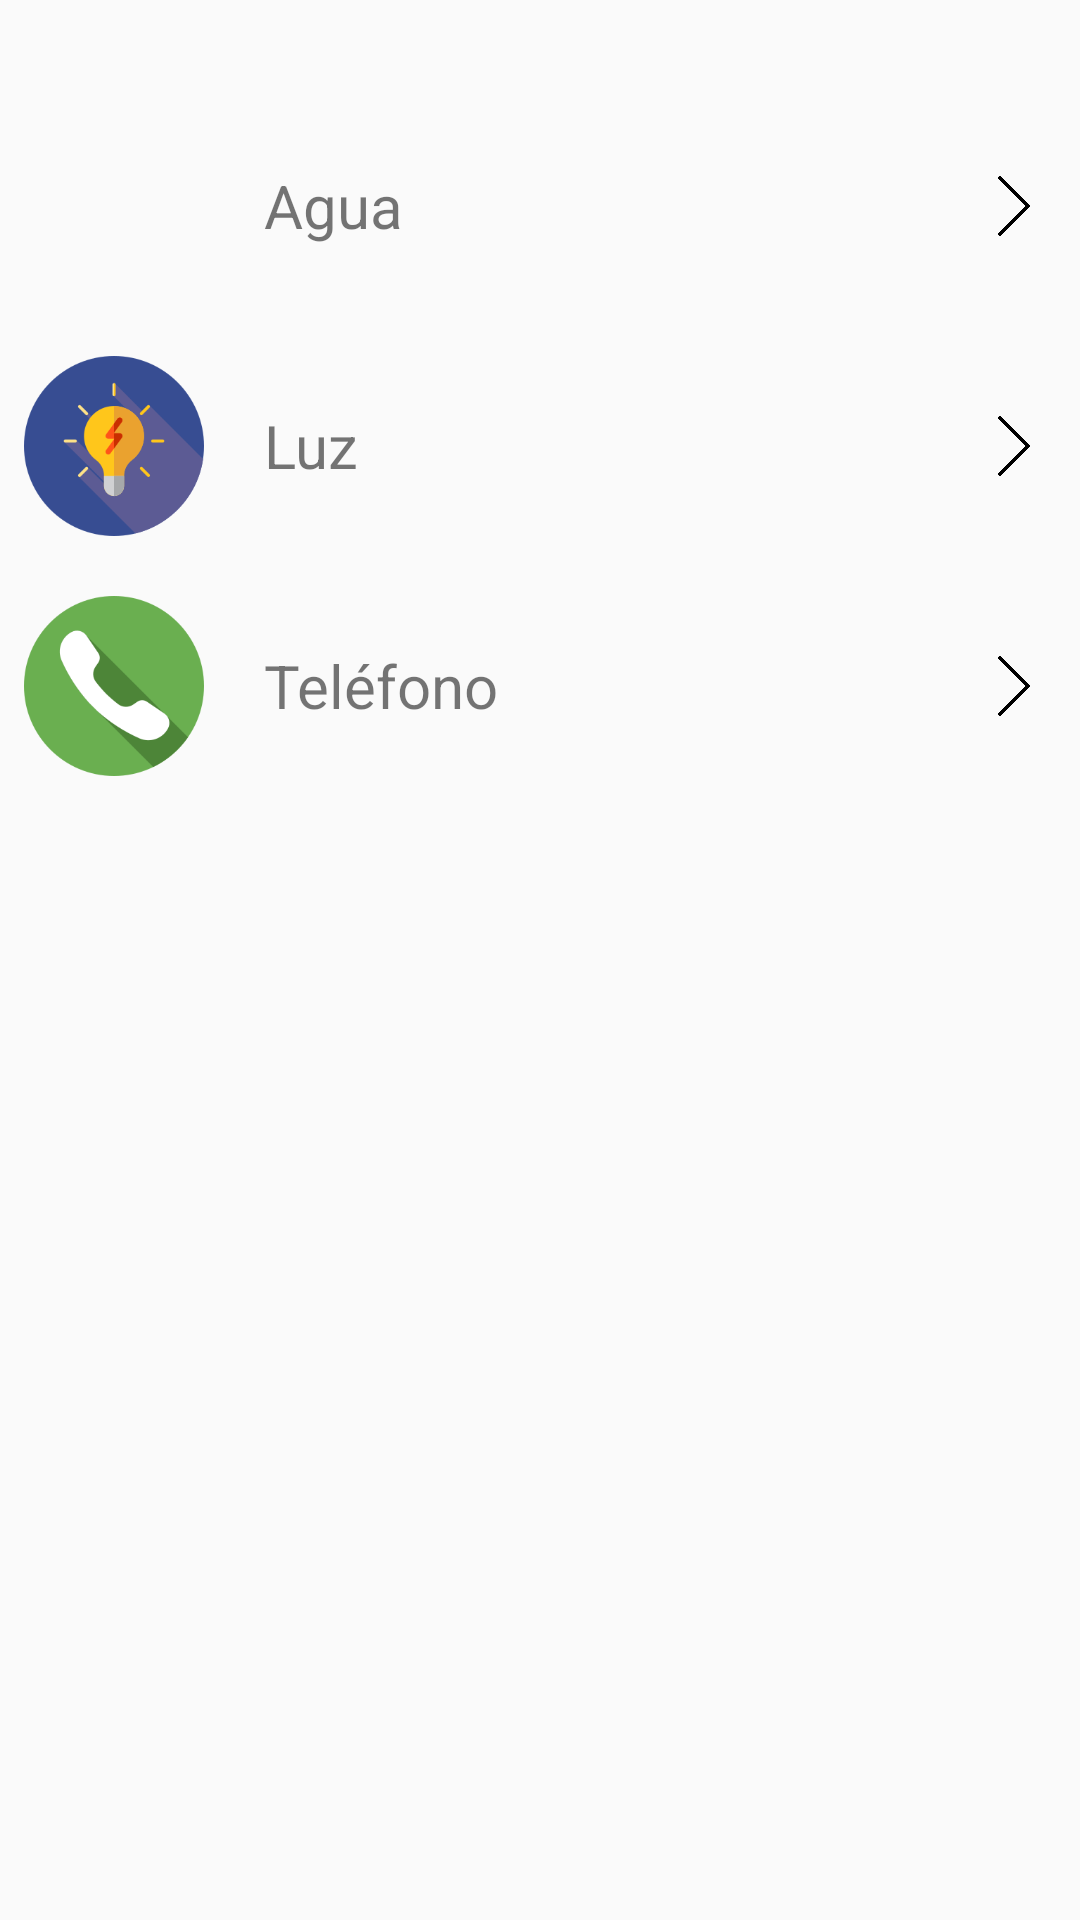

Screen size 1080 x 1920. Icon name, then its center in pixels as (x,y):
next: (1014,206), (1014,446), (1014,686)
telefono: (114,686)
